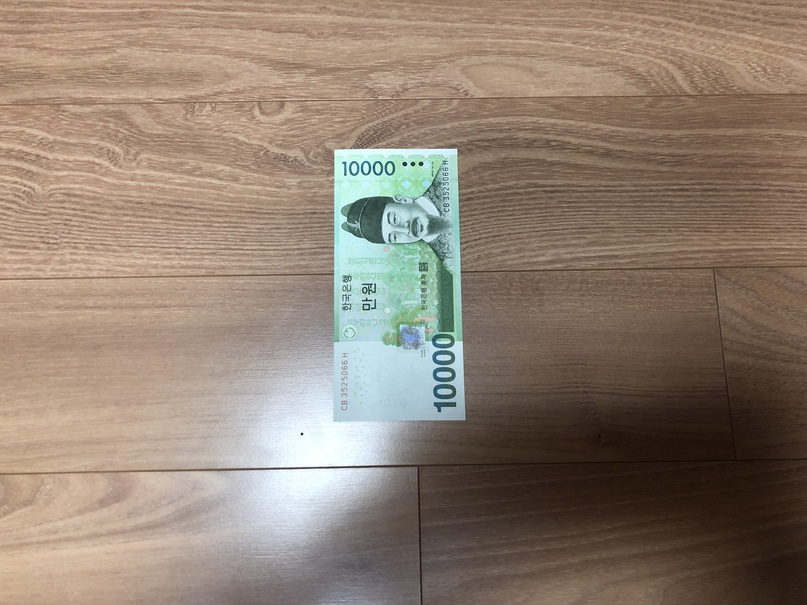10000won: (333, 149, 468, 422)
